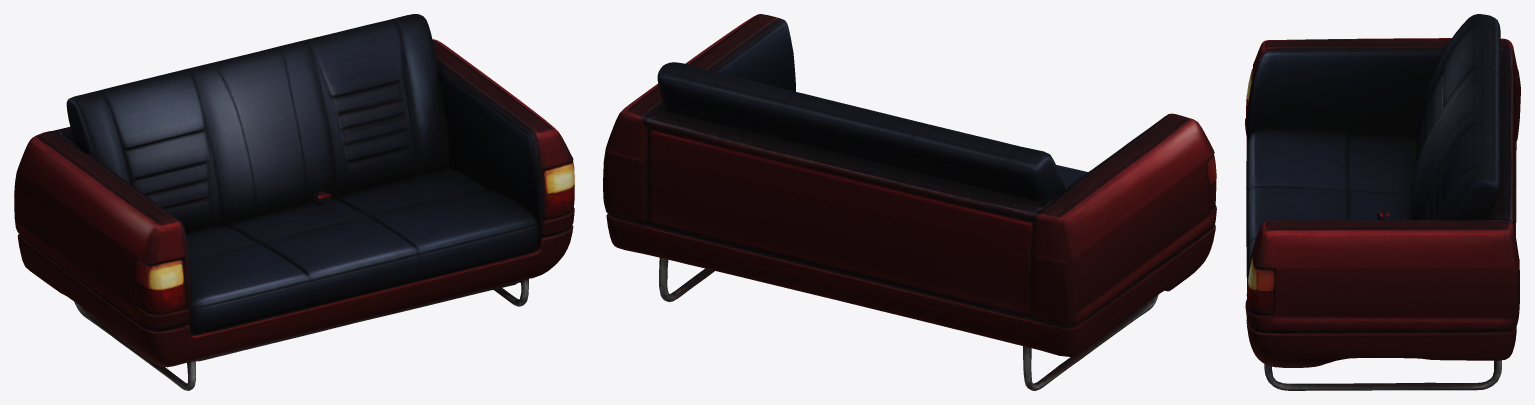
Rendered from Audi 80 Heritage Sofa.glb.
3 views of the same model, side by side, from view 1: azimuth 30°, elevation 25°; view 2: azimuth 150°, elevation 25°; view 3: azimuth 270°, elevation 25° (orthographic). The views are drawn at different scales.
Parts seen in each view (by area): view 1: world; view 2: world; view 3: world.
Part boxes in pixels (x1=…): world: x1=14, y1=14, x2=574, y2=390; world: x1=603, y1=14, x2=1216, y2=390; world: x1=1245, y1=14, x2=1520, y2=390.
Bounding box in the file's own units: 0.9992 × 0.4797 × 0.5585.
Materials: 1 (1 with a texture image).
